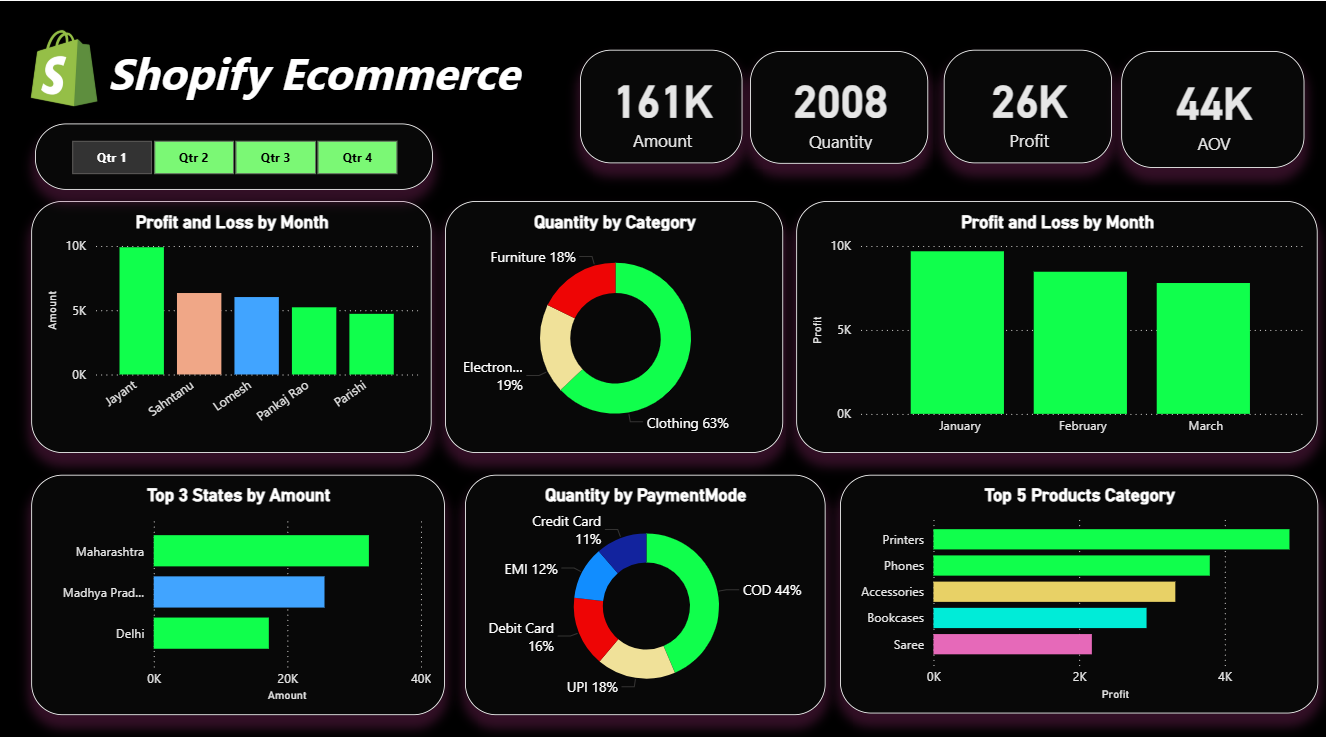

The dashboard page shown, as its layout file describes it:
{"tool":"powerbi","page":{"name":"Shopify","canvas":[1280,720],"ordinal":0},"visuals":[{"type":"columnChart","title":"Profit and Loss by Month","fields":{"Y":["Sum(Products.Profit)"],"Category":["Orders.Order Date.Variation.Date Hierarchy.Month"]},"box":[768.6,193.2,503.2,243.2],"z":0},{"type":"barChart","title":"Top 5 Products Category","fields":{"Category":["Products.Sub-Category"],"Y":["Sum(Products.Profit)"]},"box":[810.3,457.3,461.5,230.7],"z":1000},{"type":"donutChart","fields":{"Category":["Products.Category"],"Y":["Sum(Products.Quantity)"]},"box":[429.5,193.2,326.6,243.2],"z":2000},{"type":"donutChart","fields":{"Y":["Sum(Products.Quantity)"],"Category":["Products.PaymentMode"]},"box":[448.5,456.9,347.7,231.8],"z":3000},{"type":"card","fields":{"Values":["Sum(Products.Amount)"]},"box":[560.2,47.3,157.1,109.8],"z":4000},{"type":"card","fields":{"Values":["Sum(Products.Quantity)"]},"box":[724.2,48.6,172.4,108.4],"z":5000},{"type":"card","fields":{"Values":["Sum(Products.Profit)"]},"box":[910.4,47.3,162.6,109.8],"z":6000},{"type":"card","fields":{"Values":["Sum(Products.AOV)"]},"box":[1082.8,48.6,176.5,112.6],"z":7000},{"type":"barChart","title":"Top 3 States by Amount","fields":{"Y":["Sum(Products.Amount)"],"Category":["Orders.State"]},"box":[30.6,457.3,398.9,232.1],"z":8000},{"type":"columnChart","title":"Profit and Loss by Month","fields":{"Category":["Orders.CustomerName"],"Y":["Sum(Products.Amount)"]},"box":[30.6,193.2,386.4,243.2],"z":9000},{"type":"slicer","fields":{"Values":["Orders.Order Date.Variation.Date Hierarchy.Quarter"]},"box":[33.4,118.1,383.6,63.9],"z":10000},{"type":"textbox","box":[99.1,35.3,431.7,110.9],"z":11000},{"type":"image","box":[10.1,0,107.5,117.6],"z":12000}]}

Visuals, with their boxes in screenshot pixels (x1, y1, x2, y2), scaled from the page's 1280x720 canvas onto the 1326x737 screenshot:
"Profit and Loss by Month" columnChart: <bbox>796, 198, 1318, 447</bbox>
"Top 5 Products Category" barChart: <bbox>839, 468, 1318, 704</bbox>
donutChart - Products.Category x Sum(Products.Quantity): <bbox>445, 198, 783, 447</bbox>
donutChart - Sum(Products.Quantity) x Products.PaymentMode: <bbox>465, 468, 825, 705</bbox>
card - Sum(Products.Amount): <bbox>580, 48, 743, 161</bbox>
card - Sum(Products.Quantity): <bbox>750, 50, 929, 161</bbox>
card - Sum(Products.Profit): <bbox>943, 48, 1112, 161</bbox>
card - Sum(Products.AOV): <bbox>1122, 50, 1305, 165</bbox>
"Top 3 States by Amount" barChart: <bbox>32, 468, 445, 706</bbox>
"Profit and Loss by Month" columnChart: <bbox>32, 198, 432, 447</bbox>
slicer - Orders.Order Date.Variation.Date Hierarchy.Quarter: <bbox>35, 121, 432, 186</bbox>
textbox: <bbox>103, 36, 550, 150</bbox>
image: <bbox>10, 0, 122, 120</bbox>
